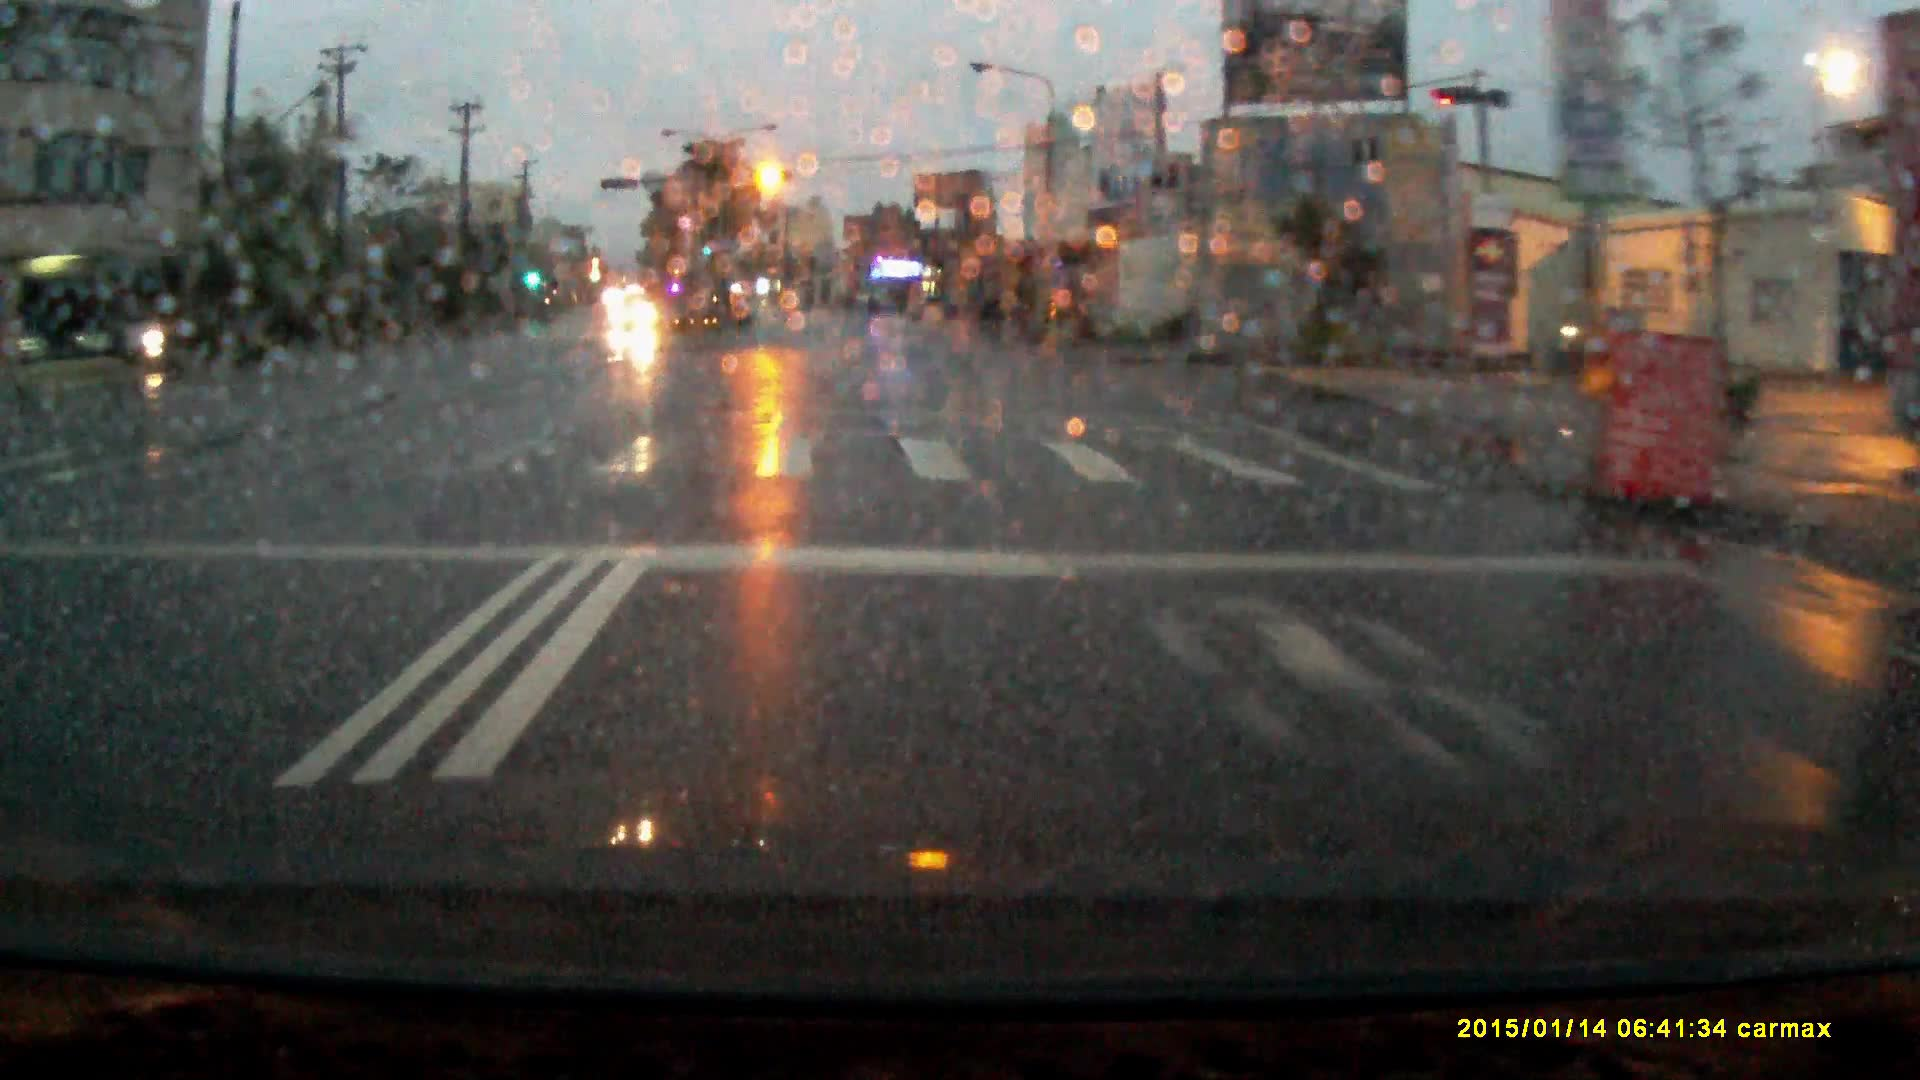rider: (1557, 291, 1631, 379), (134, 298, 180, 377)
vehicle: (610, 297, 661, 337)
